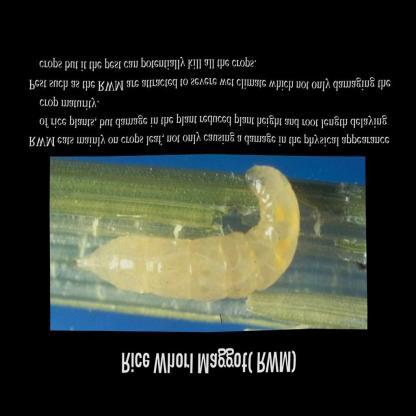whorl-maggot: (70, 163, 304, 307)
